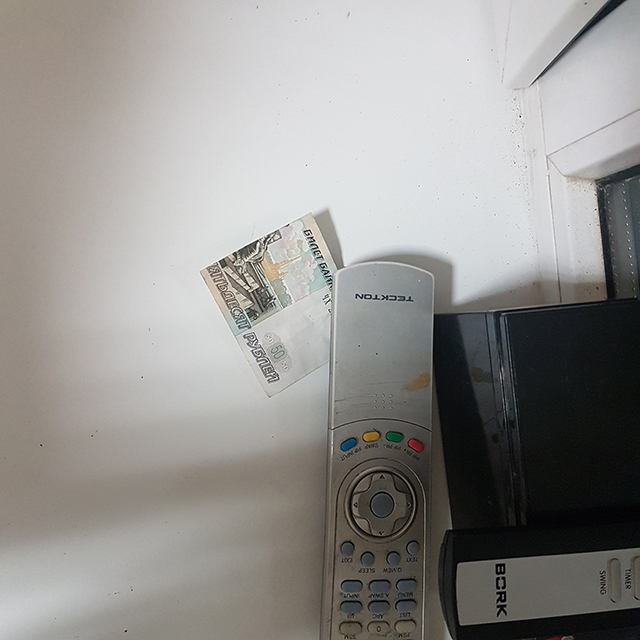banknotes: (199, 212, 345, 398)
